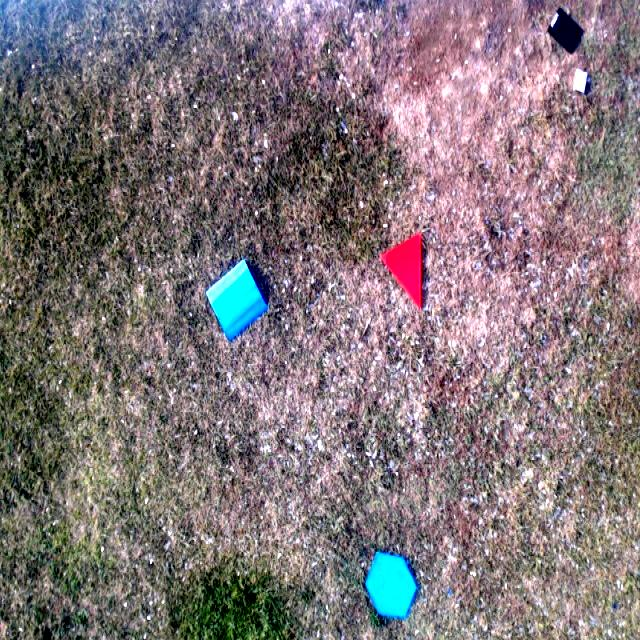blue_hexagon: (364, 544, 418, 624)
blue_square: (204, 255, 266, 345)
red_triangle: (378, 233, 422, 313)
